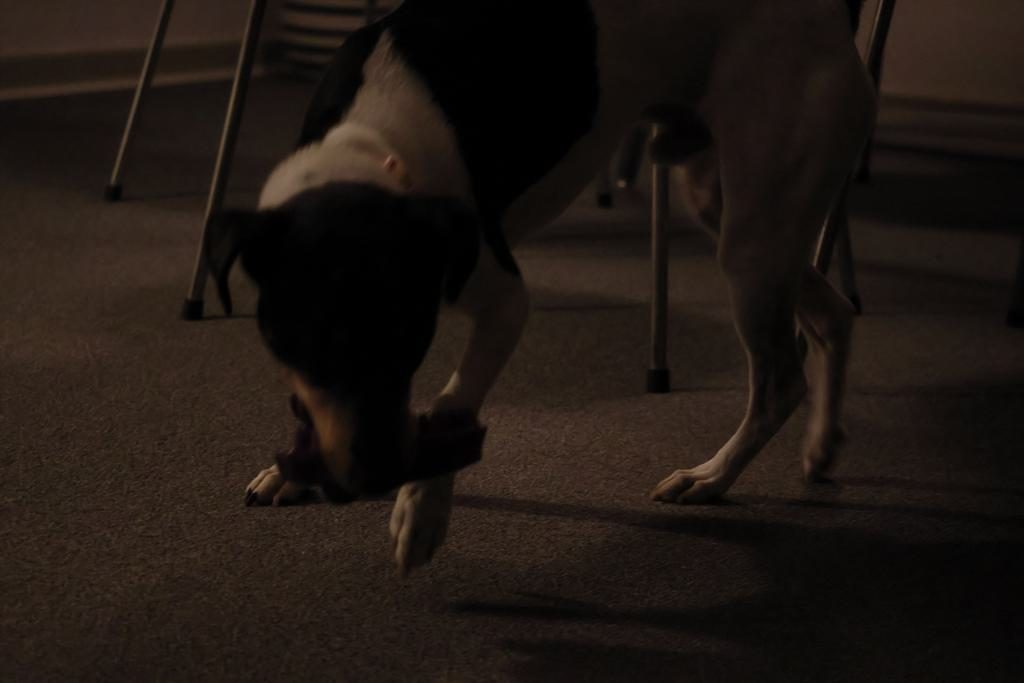Dog: (193, 0, 892, 584)
